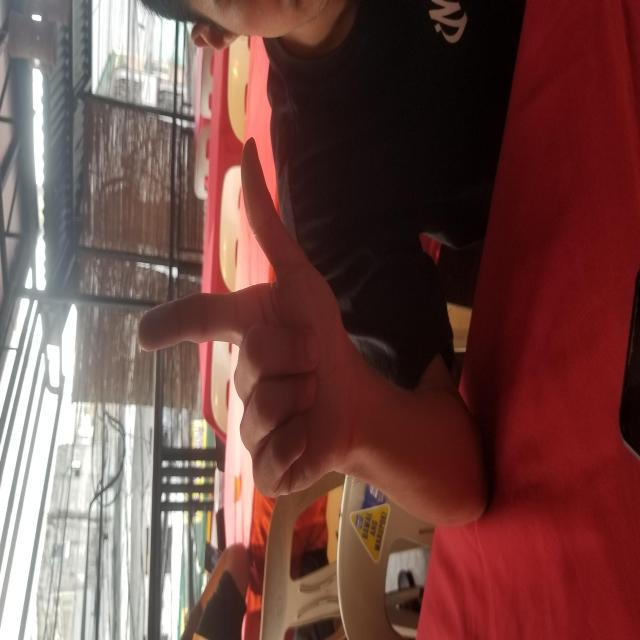L: (134, 136, 506, 360)
